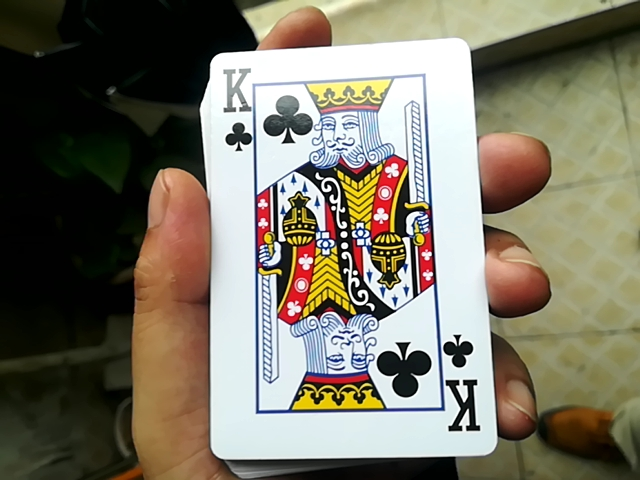mh k: (194, 32, 493, 459)
